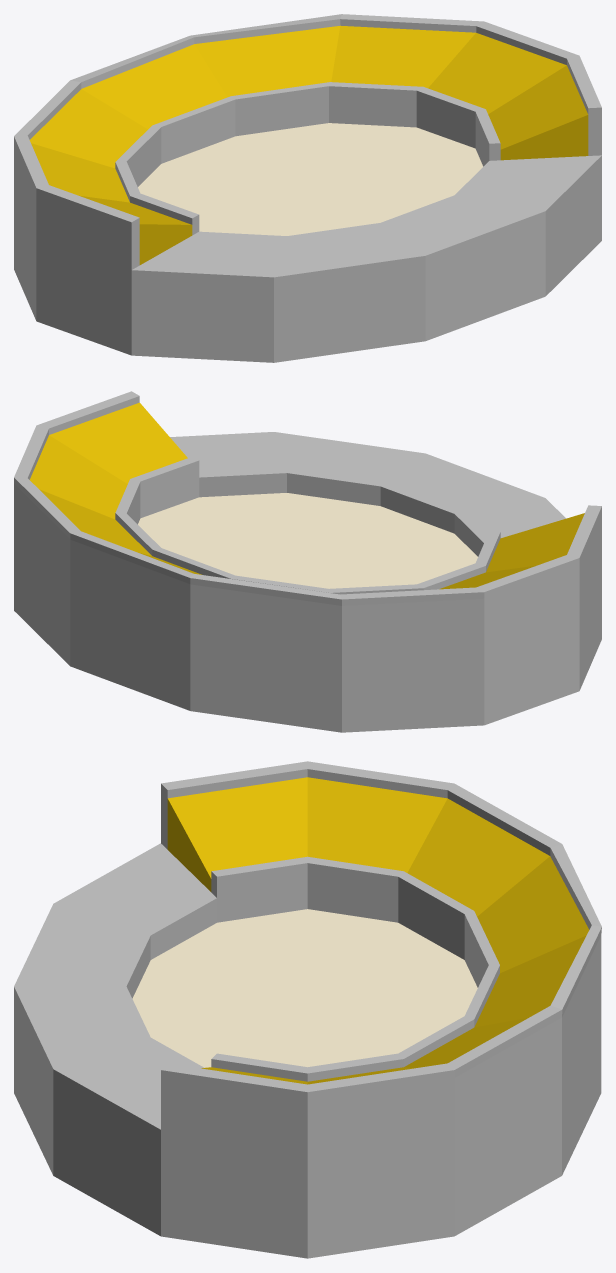
Rendered from arena_v1.fbx.
The picture shows the model from 3 angles, top to bottom: view 1: azimuth 30°, elevation 25°; view 2: azimuth 150°, elevation 25°; view 3: azimuth 270°, elevation 25°; orthographic projection. The views are drawn at different scales.
Visible parts, largest first — view 1: arena; view 2: arena; view 3: arena.
Boxes of the visible parts, x1,y1,x2,y2 form: arena: [14, 14, 601, 362]; arena: [14, 391, 601, 732]; arena: [14, 761, 601, 1258].
Size of the model in its own units: 4322 by 1023 by 3246.
